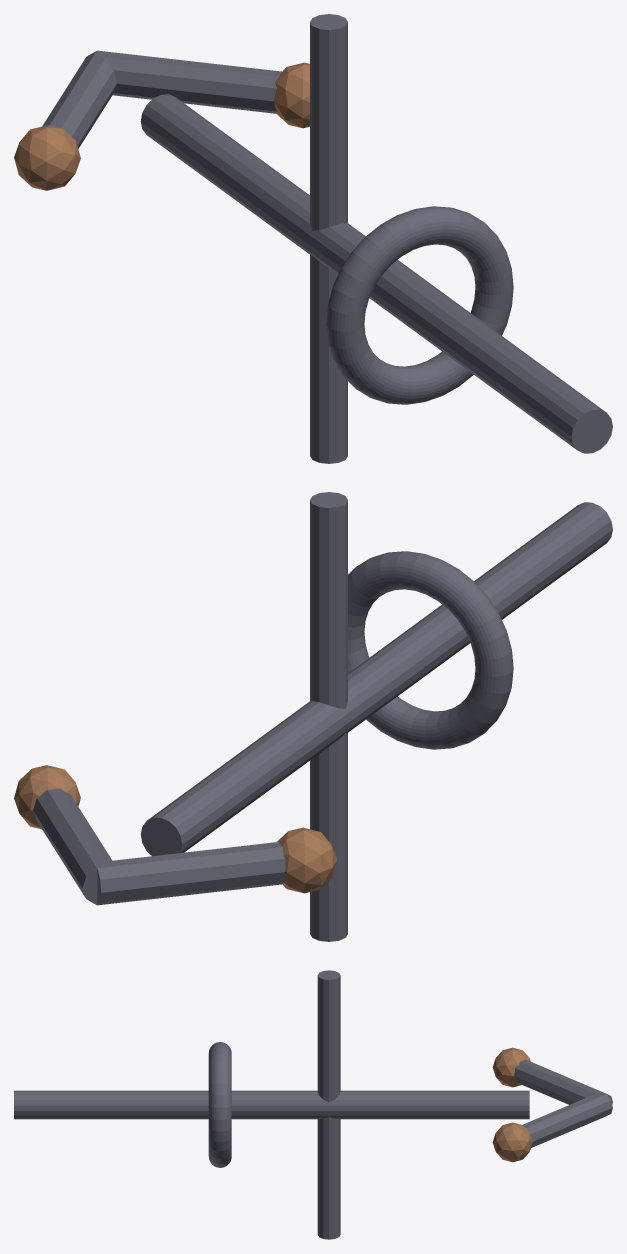
Rendered from anchor.glb.
The picture shows the model from 3 angles, top to bottom: view 1: azimuth 30°, elevation 25°; view 2: azimuth 150°, elevation 25°; view 3: azimuth 270°, elevation 25°; orthographic projection. The views are drawn at different scales.
Visible parts, largest first — view 1: anchor_part_1, anchor_part_0, anchor_part_2, anchor_part_3, anchor_part_5, anchor_part_6, anchor_part_4; view 2: anchor_part_1, anchor_part_0, anchor_part_2, anchor_part_5, anchor_part_3, anchor_part_6, anchor_part_4; view 3: anchor_part_1, anchor_part_2, anchor_part_0, anchor_part_3, anchor_part_5, anchor_part_4, anchor_part_6.
Part boxes in pixels (box(x1,y1,x2,y2)): anchor_part_1: box(140, 94, 612, 453); anchor_part_0: box(326, 206, 513, 404); anchor_part_2: box(310, 14, 347, 463); anchor_part_3: box(94, 50, 281, 113); anchor_part_5: box(42, 51, 116, 148); anchor_part_6: box(14, 125, 80, 190); anchor_part_4: box(274, 62, 309, 128); anchor_part_1: box(140, 502, 612, 856); anchor_part_0: box(348, 551, 513, 749); anchor_part_2: box(310, 492, 347, 941); anchor_part_5: box(95, 842, 285, 905); anchor_part_3: box(33, 788, 112, 904); anchor_part_6: box(277, 827, 336, 893); anchor_part_4: box(14, 765, 80, 829); anchor_part_1: box(14, 1090, 529, 1119); anchor_part_2: box(317, 970, 340, 1239); anchor_part_0: box(208, 1042, 231, 1167); anchor_part_3: box(522, 1091, 612, 1147); anchor_part_5: box(514, 1059, 612, 1104); anchor_part_4: box(492, 1122, 532, 1162); anchor_part_6: box(492, 1047, 530, 1087).
Size of the model in its own units: 0.7582 by 1 by 2.09.
